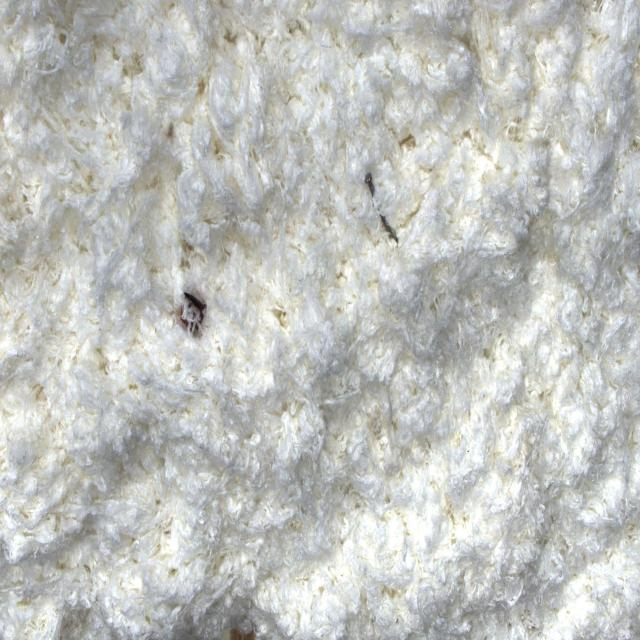dust: (170, 283, 212, 344), (356, 155, 384, 211), (375, 211, 407, 258)
